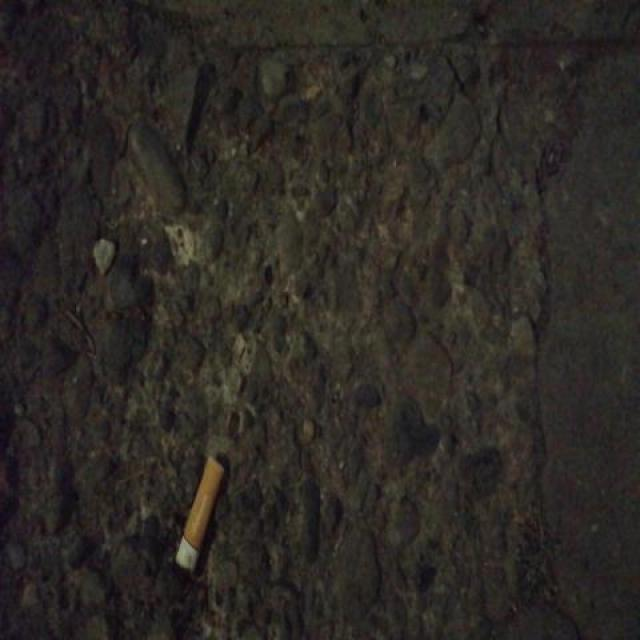non-organic waste: (171, 450, 226, 578)
